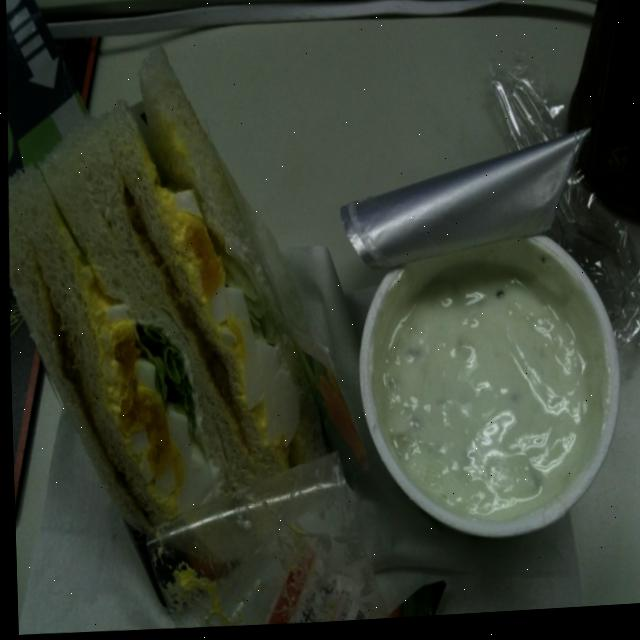三明治: (1, 30, 387, 624)
